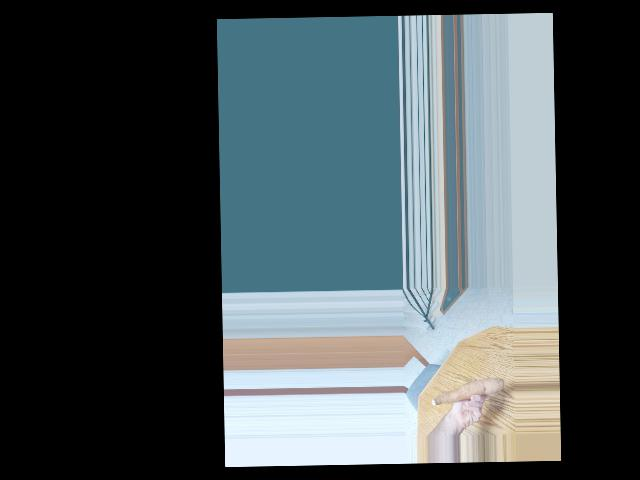sweet_potato: (430, 375, 502, 409)
